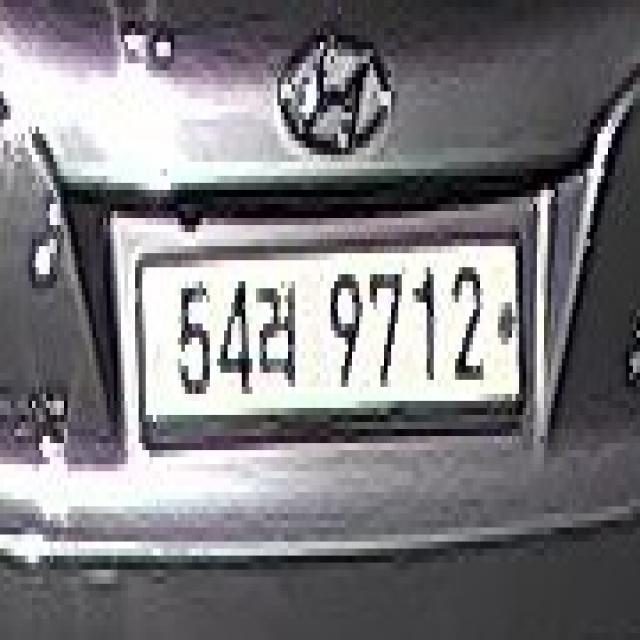1: (409, 246, 448, 394)
2: (448, 225, 487, 394)
4: (213, 232, 263, 408)
5: (174, 253, 220, 429)
7: (370, 253, 402, 387)
9: (324, 253, 366, 387)
leo: (252, 274, 302, 387)
license_plate: (128, 225, 537, 464)
